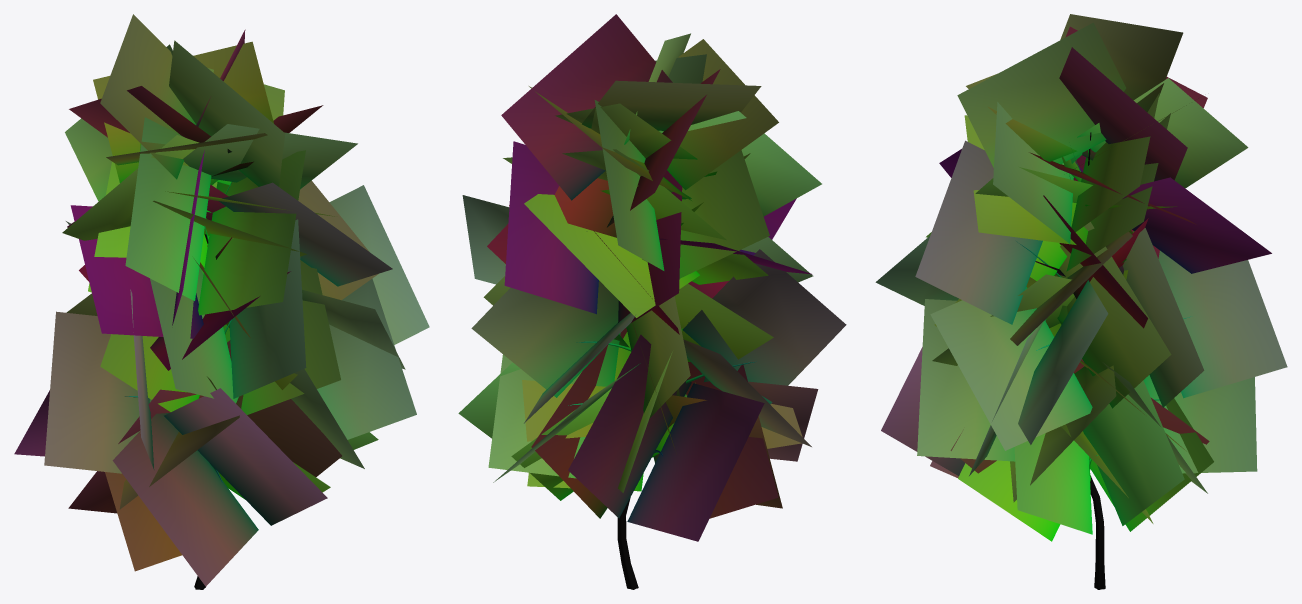
Rendered from URP_P15_Tree_10_LOD_1.fbx.
3 views of the same model, side by side, from view 1: azimuth 30°, elevation 25°; view 2: azimuth 150°, elevation 25°; view 3: azimuth 270°, elevation 25° (orthographic).
Parts seen in each view (by area): view 1: Tree_10_LOD_1; view 2: Tree_10_LOD_1; view 3: Tree_10_LOD_1.
Boxes of the visible parts, bbox=[...] form: Tree_10_LOD_1: bbox=[14, 14, 429, 589]; Tree_10_LOD_1: bbox=[458, 14, 846, 589]; Tree_10_LOD_1: bbox=[875, 14, 1287, 589].
Size of the model in its own units: 504 by 745 by 501.
